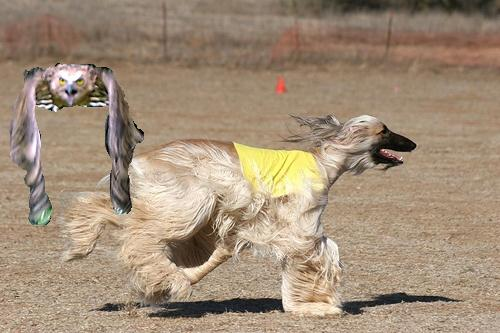tampered: (10, 64, 144, 225)
